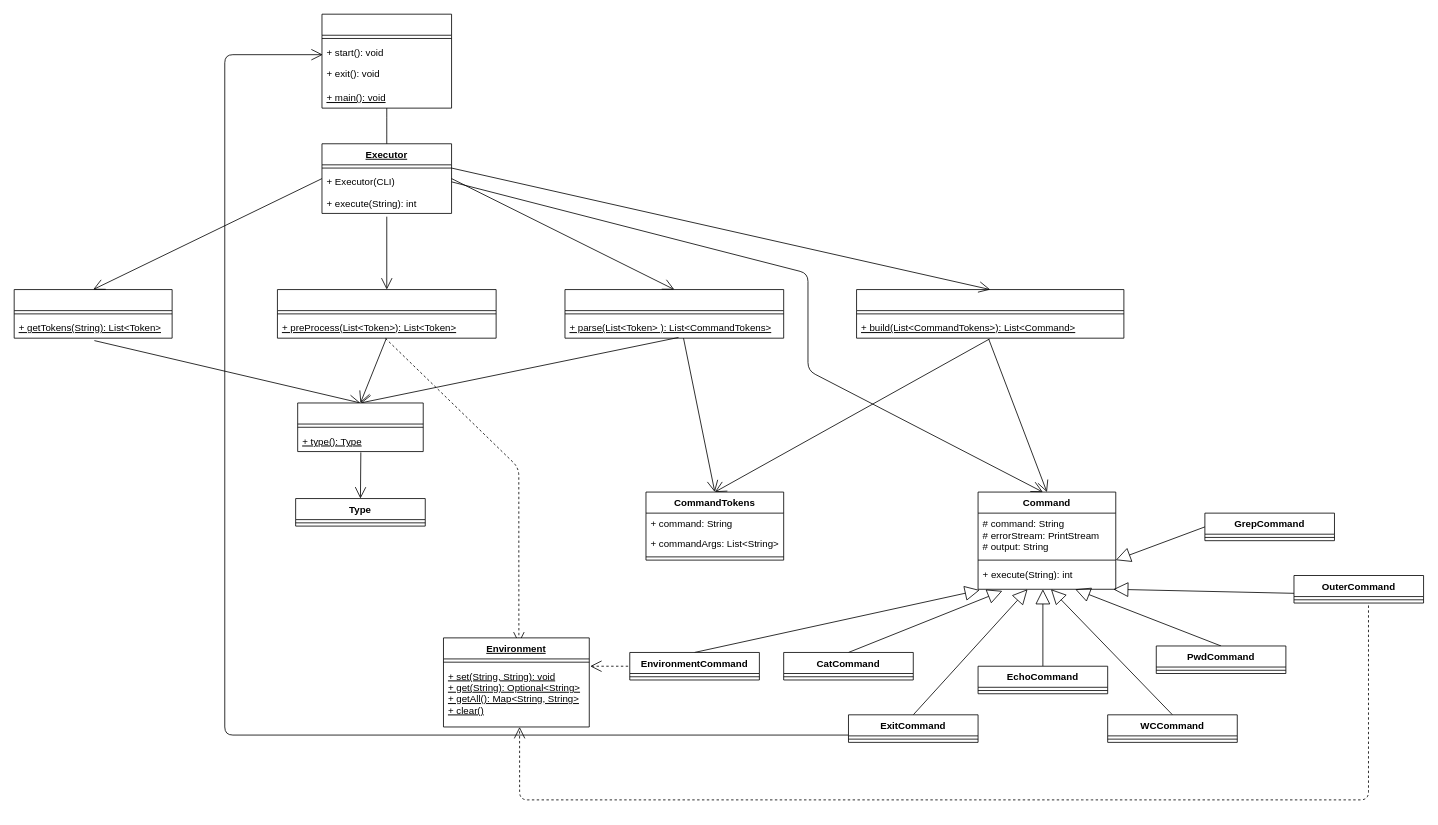
Some shapes in this 1438 by 825 pixel diagram are drawn without their labels. Here are the shapes that lost their labels. From the top down, the box of each, then its label:
(321, 13, 452, 108): CLI
(13, 289, 172, 338): Lexer
(277, 289, 496, 338): PreProcessor
(564, 289, 784, 338): Parser
(856, 289, 1124, 338): CommandBuilder
(297, 402, 423, 452): Token
